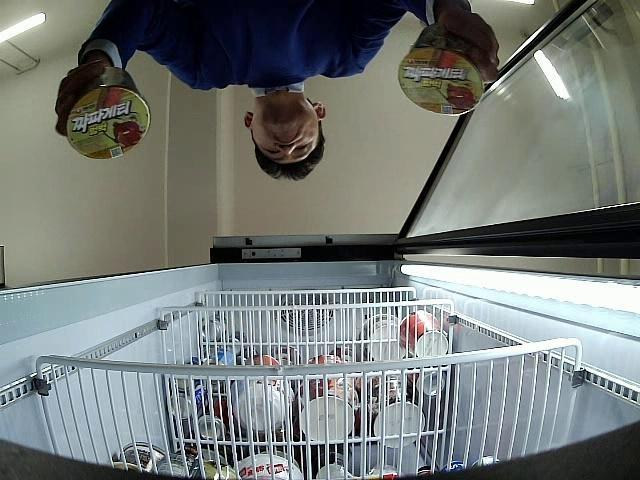04_chapagetti_S: (398, 22, 488, 116), (66, 67, 150, 159)
